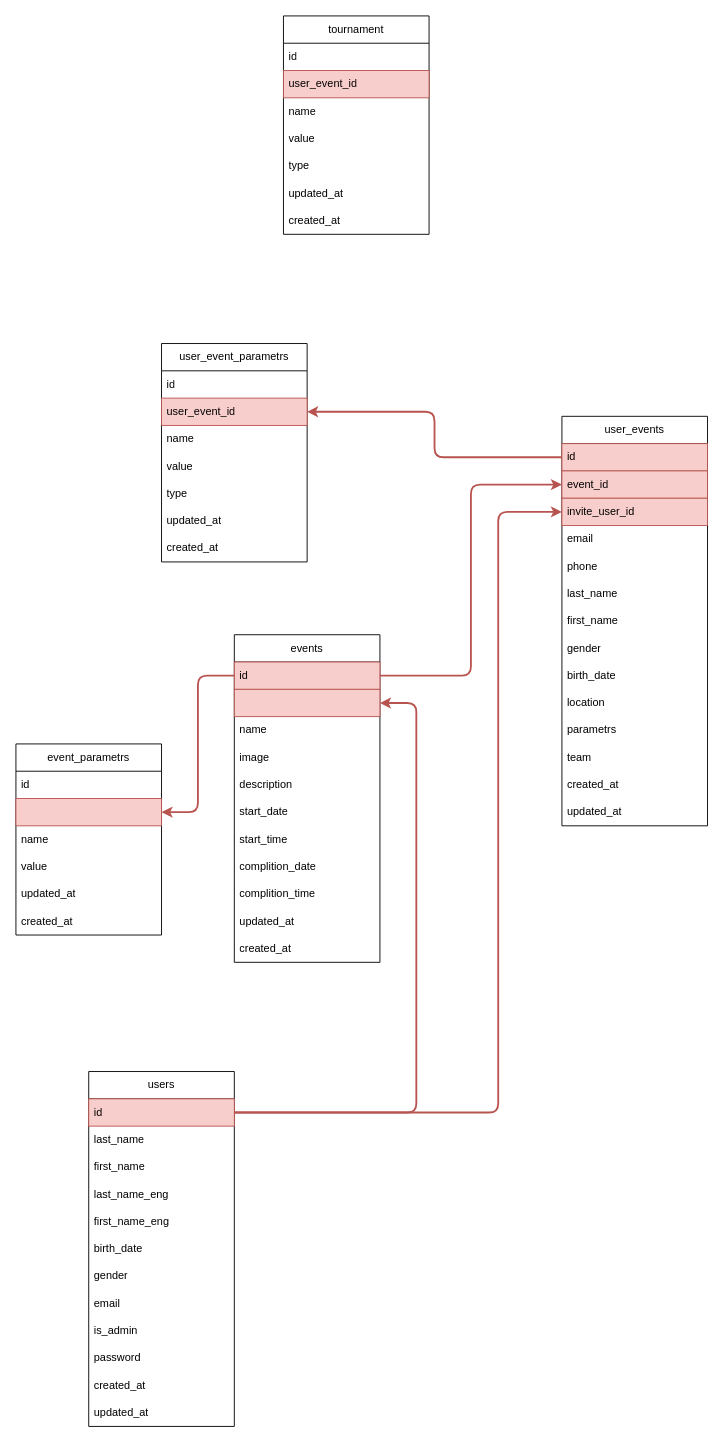
Some shapes in this 723 by 1442 pixel diagram are drawn without their labels. The shapes that lost their labels are listed below. From the top down, each one's centre as x and y in pixels, then its label:
[306,702]: owner_id
[88,812]: events_id
